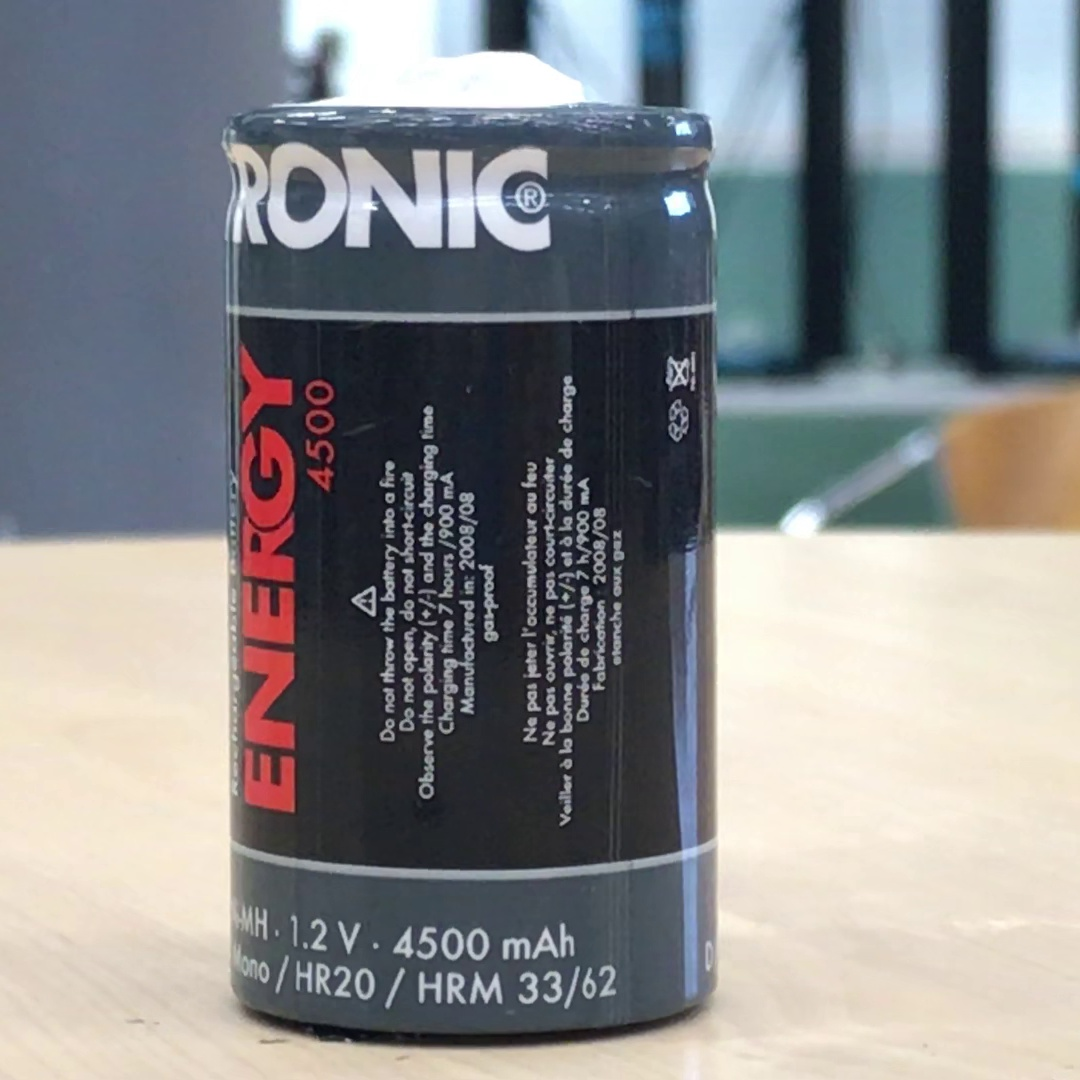keyword: (287, 959, 384, 1002)
